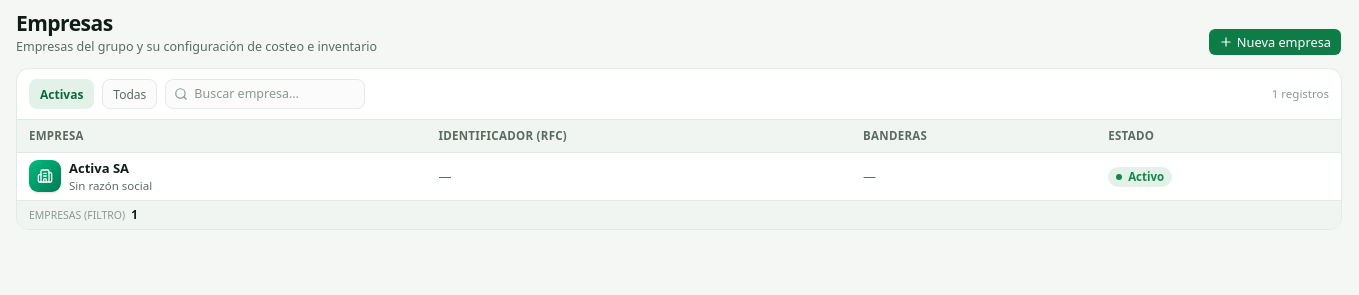
Test: <EmpresasPagina> › por defecto oculta las empresas inactivas hasta pedir mostrarlas
The width and height of the screenshot is (1359, 295).
Expected: the text "Activa SA" is shown, [69,159,129,177]
Expected: the text "Inactiva SA" is not shown
Click the button with test id "mostrar-desactivados" at (130, 94), box [102,79,157,109]
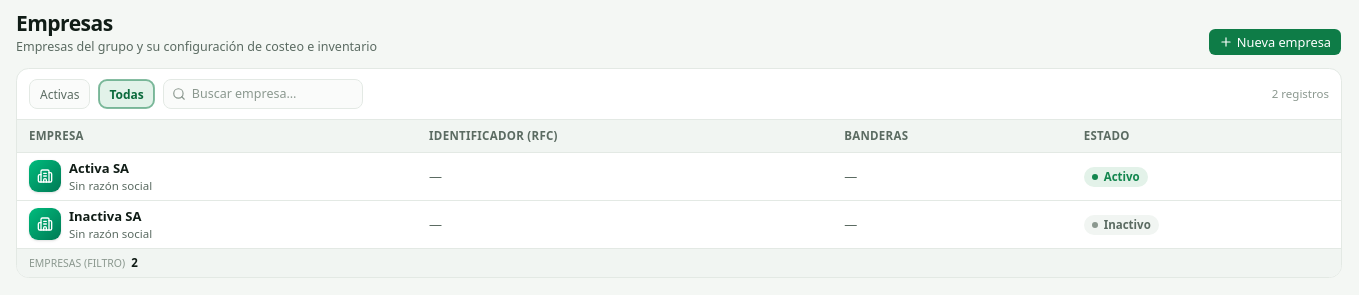
Expected: the text "Inactiva SA" is shown, [69,207,152,226]
